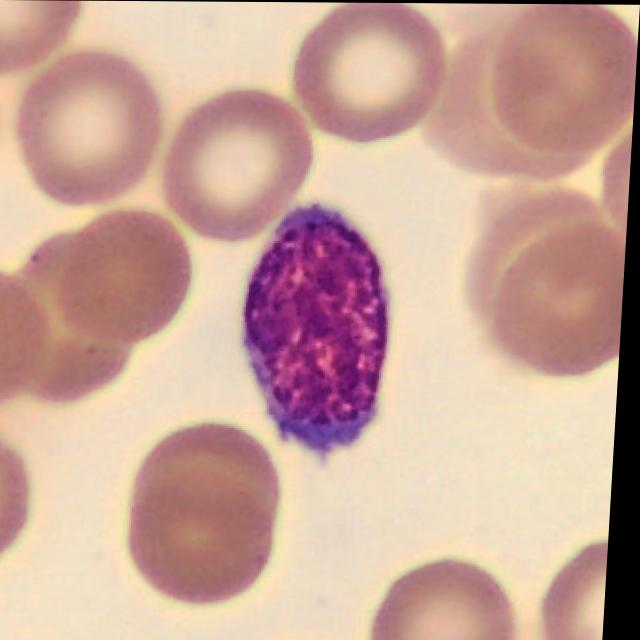Linfocito: (248, 206, 389, 453)
